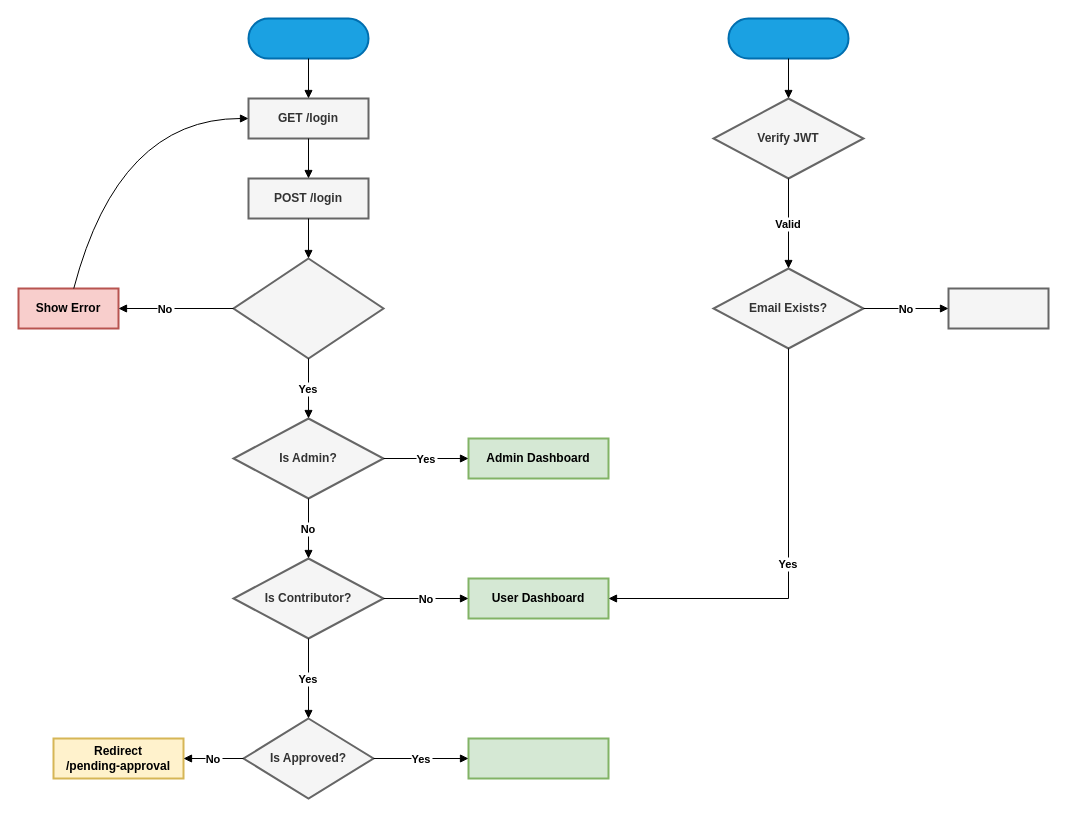
This 1066x816 diagram has some shape labels left out. Here are the shapes that lost their labels. From the top down, the centre of each, then its label:
point 308,38: Start
point 788,38: Google Sign-In
point 308,308: Authenticate Credentials?
point 998,308: Create User
point 538,758: Contributor Dashboard
